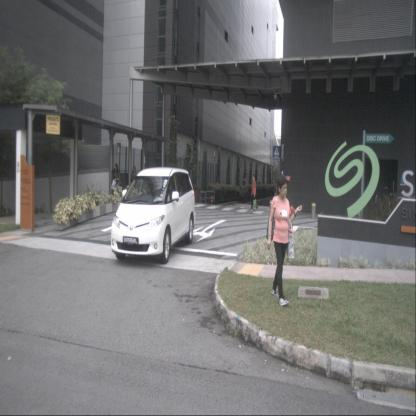human-pedestrian-adult: (266, 175, 302, 306), (111, 163, 121, 208), (249, 174, 259, 212), (130, 166, 137, 201)
vehicle-car: (110, 166, 196, 264)
